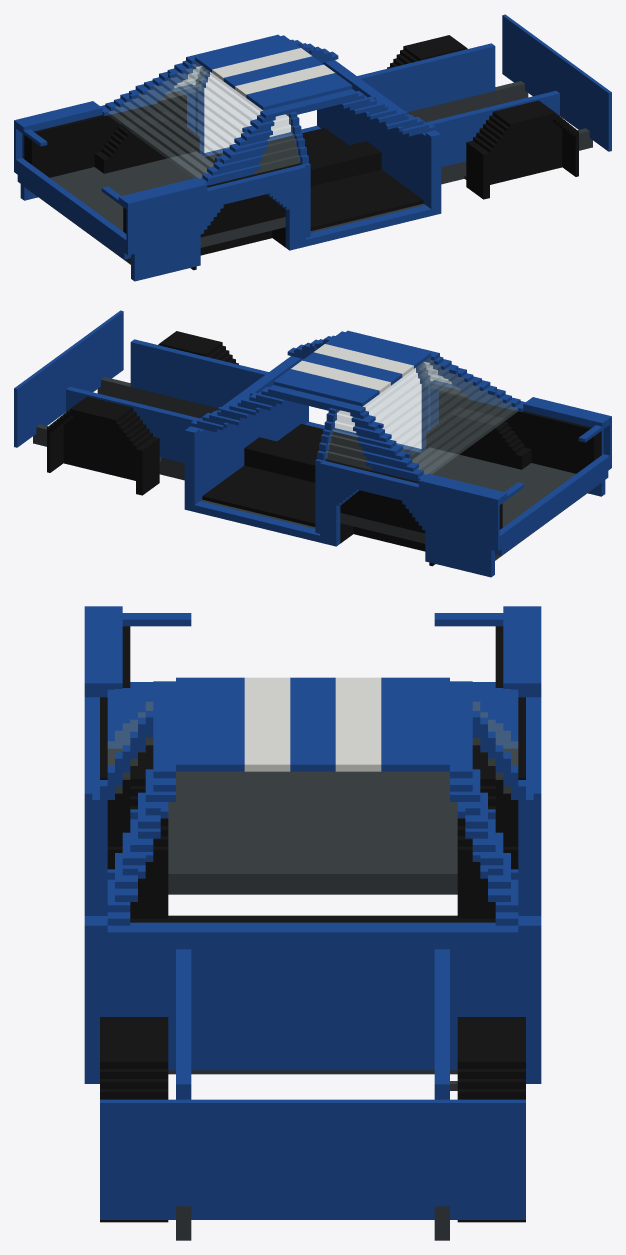
File: muscle_car_shell.glb
3 views of the same model, one above another, from view 1: azimuth 30°, elevation 25°; view 2: azimuth 150°, elevation 25°; view 3: azimuth 270°, elevation 25° (orthographic). The views are drawn at different scales.
Visible parts, largest first — view 1: body:compound; view 2: body:compound; view 3: body:compound.
Part boxes in pixels (<box>): body:compound: <box>14,14,611,281</box>; body:compound: <box>14,310,611,577</box>; body:compound: <box>84,606,541,1240</box>.
Bounding box in the file's own units: 4.62 × 1.16 × 1.88.
